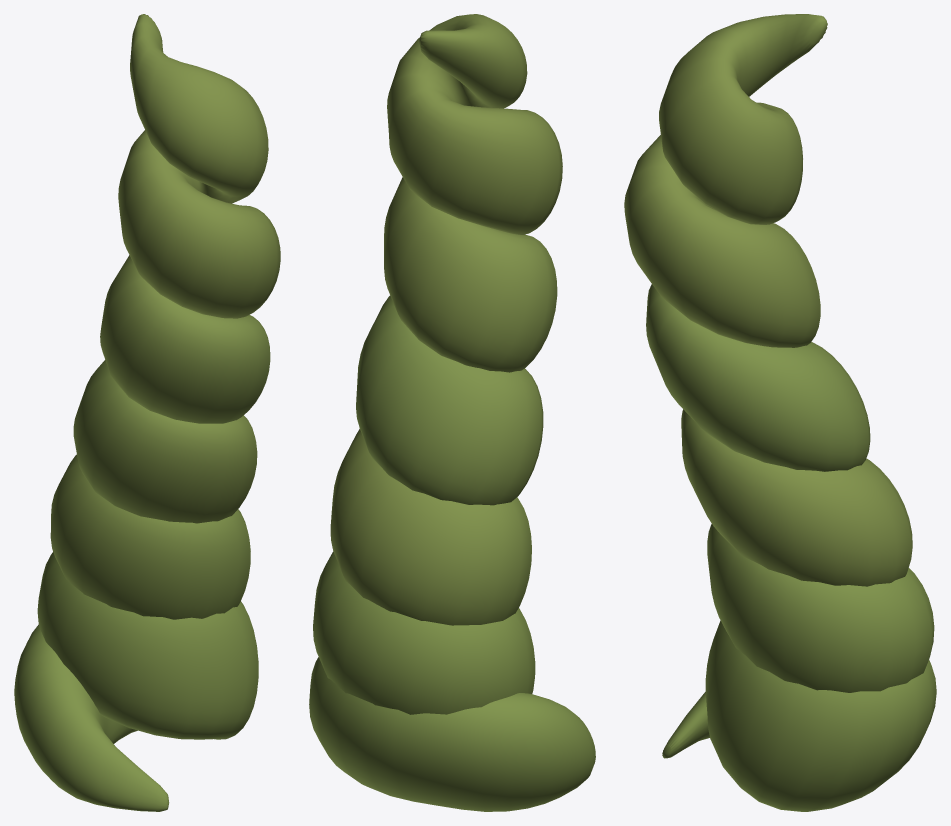
Rendered from moguwu_03.FBX.
3 renders of one model, left to right at view 1: azimuth 30°, elevation 25°; view 2: azimuth 150°, elevation 25°; view 3: azimuth 270°, elevation 25°, orthographic. The views are drawn at different scales.
Parts seen in each view (by area): view 1: moguwu_03; view 2: moguwu_03; view 3: moguwu_03.
Boxes of the visible parts, left/top/right/bottom form: moguwu_03: left=14, top=14, right=280, bottom=811; moguwu_03: left=309, top=14, right=595, bottom=811; moguwu_03: left=624, top=14, right=936, bottom=811.
Size of the model in its own units: 219 by 673 by 246.
